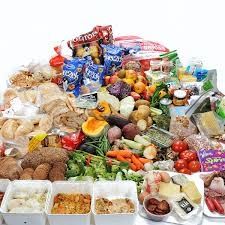kitchen_waste: (67, 149, 119, 181), (80, 115, 113, 140), (1, 156, 25, 180), (39, 148, 76, 162), (120, 120, 142, 138), (31, 161, 50, 181), (105, 147, 135, 159), (49, 165, 68, 183), (170, 139, 191, 153), (178, 148, 199, 162), (132, 80, 149, 95), (121, 74, 136, 90), (186, 158, 202, 172), (172, 158, 188, 171)
plastic: (53, 23, 117, 57), (59, 55, 87, 98), (99, 42, 125, 78), (83, 59, 106, 92)
